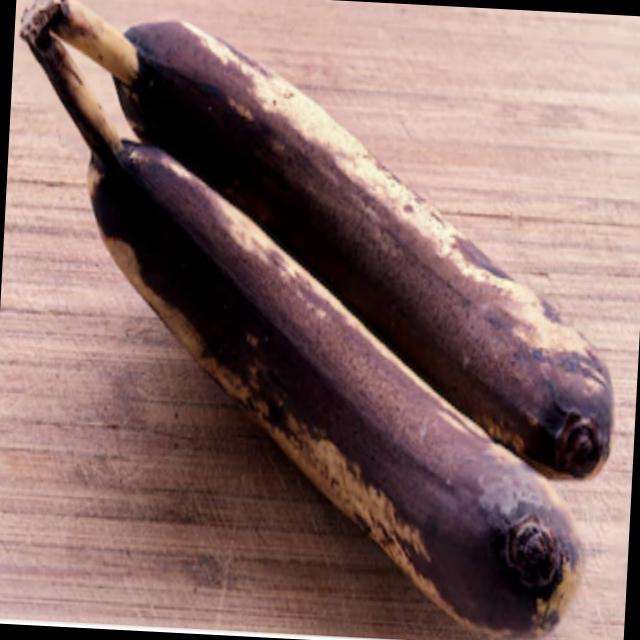rotten-banana: (65, 122, 599, 625), (95, 28, 640, 477)
